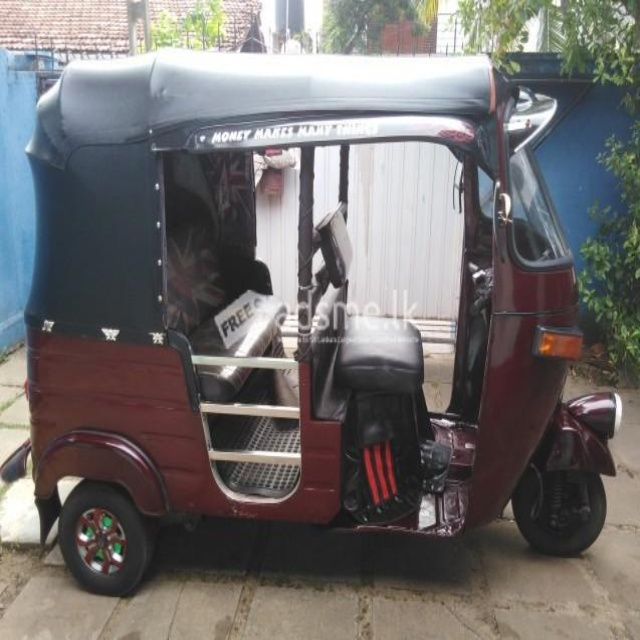Motorcycle: (1, 50, 623, 596)
